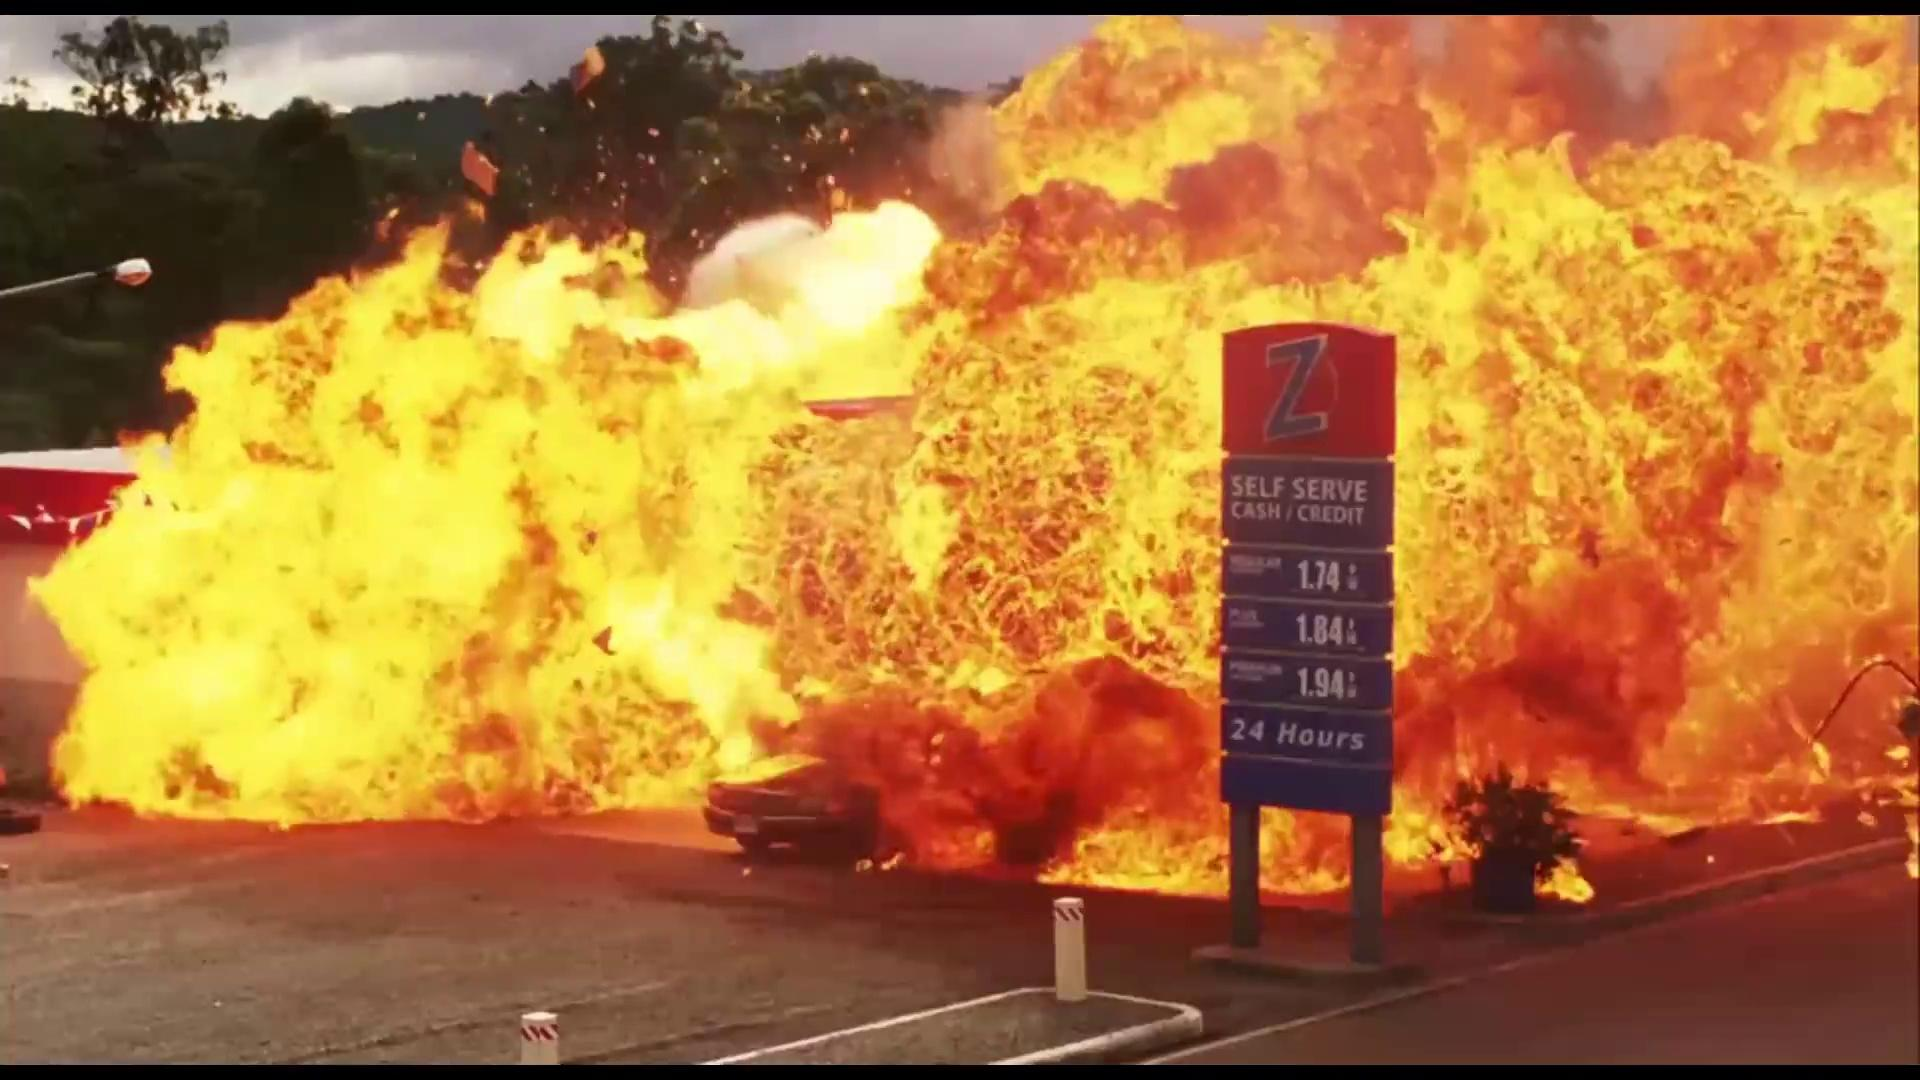fire: (25, 13, 1920, 922)
